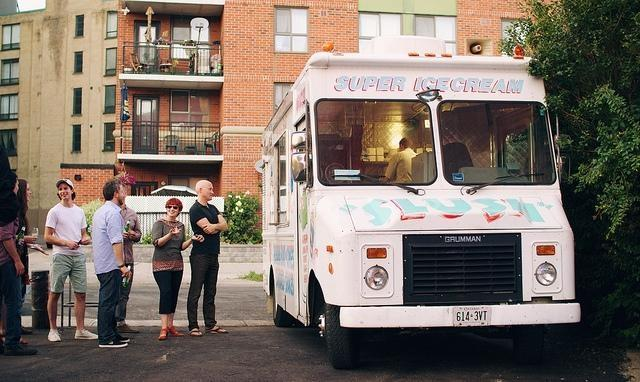truck: (260, 37, 584, 371)
